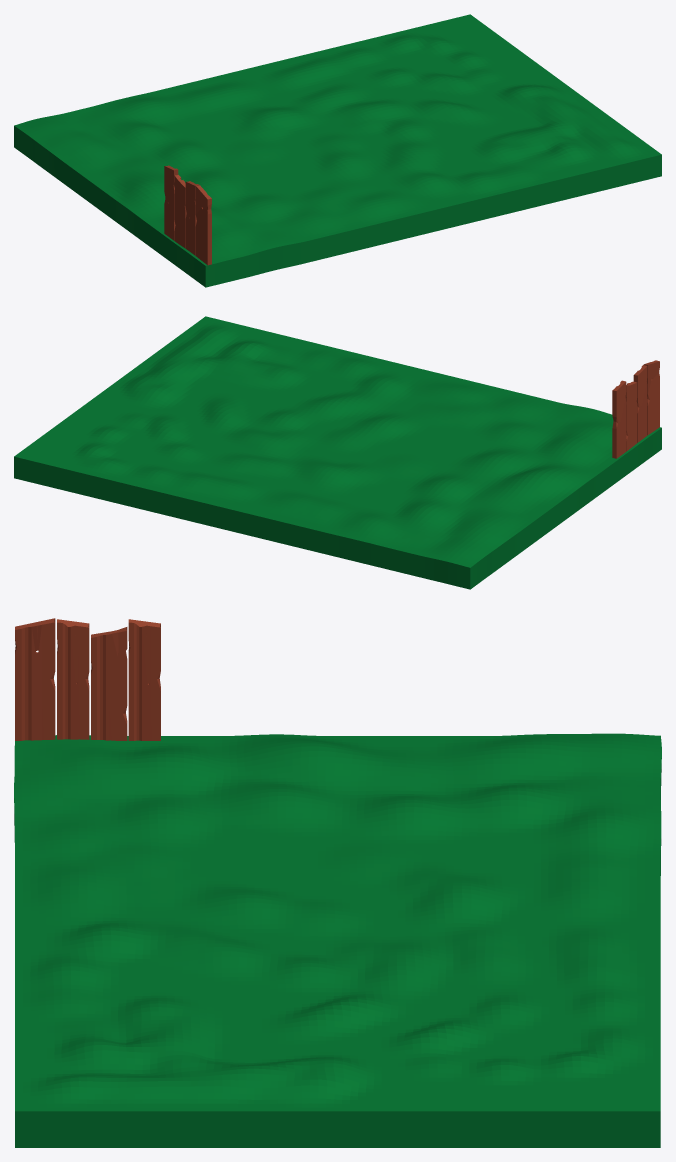
The model's file is Küche.fbx_Zaunelement.fbx.
3 views of the same model, one above another, from view 1: azimuth 30°, elevation 25°; view 2: azimuth 150°, elevation 25°; view 3: azimuth 270°, elevation 25° (orthographic). The views are drawn at different scales.
Parts seen in each view (by area): view 1: Rasen, Cube.005, Cube.007, Cube.008, Cube.006; view 2: Rasen, Cube.008, Cube.005, Cube.006, Cube.007; view 3: Rasen, Cube.005, Cube.007, Cube.008, Cube.006.
Part boxes in pixels (x1=…): Rasen: x1=14, y1=14, x2=661, y2=287; Cube.005: x1=195, y1=185, x2=211, y2=265; Cube.007: x1=174, y1=175, x2=186, y2=248; Cube.008: x1=164, y1=165, x2=178, y2=240; Cube.006: x1=185, y1=181, x2=199, y2=255; Rasen: x1=14, y1=316, x2=661, y2=589; Cube.008: x1=612, y1=380, x2=626, y2=458; Cube.005: x1=643, y1=360, x2=659, y2=435; Cube.006: x1=633, y1=365, x2=647, y2=442; Cube.007: x1=625, y1=381, x2=637, y2=451; Rasen: x1=14, y1=733, x2=661, y2=1147; Cube.005: x1=15, y1=618, x2=55, y2=740; Cube.007: x1=91, y1=627, x2=127, y2=740; Cube.008: x1=128, y1=619, x2=160, y2=740; Cube.006: x1=57, y1=619, x2=89, y2=739.
Bounding box in the file's own units: 1102 × 213 × 803.
